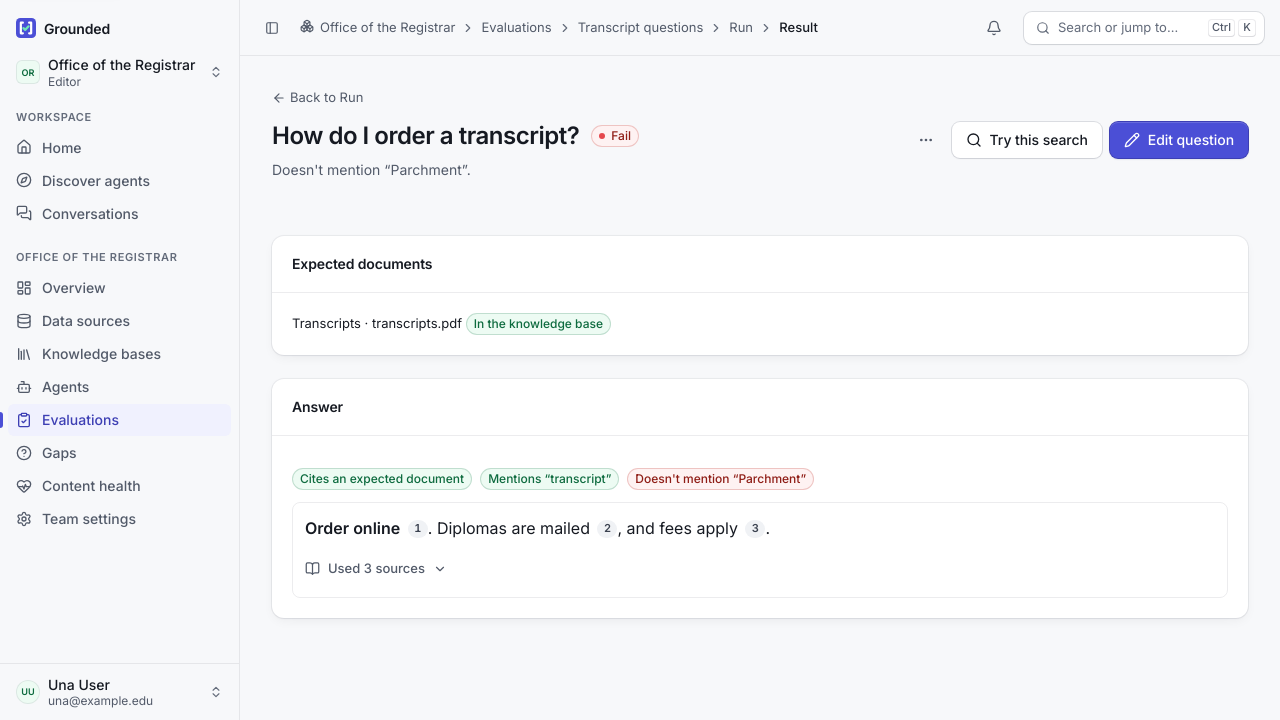
a set's runs › shows a full answer as chat does: Markdown, chips for its markers and one source per number, and why a question failed
This screenshot has width=1280, height=720.
Check: the text "Order online" is shown, box [305,518,400,538]
Check: the headings read "Expected documents", "Answer", in this order, box [292,254,432,272]; [292,398,343,414]
The sources start collapsed, as in chat.
Click the button "Used 3 sources" at (376, 569), box [297,553,455,585]
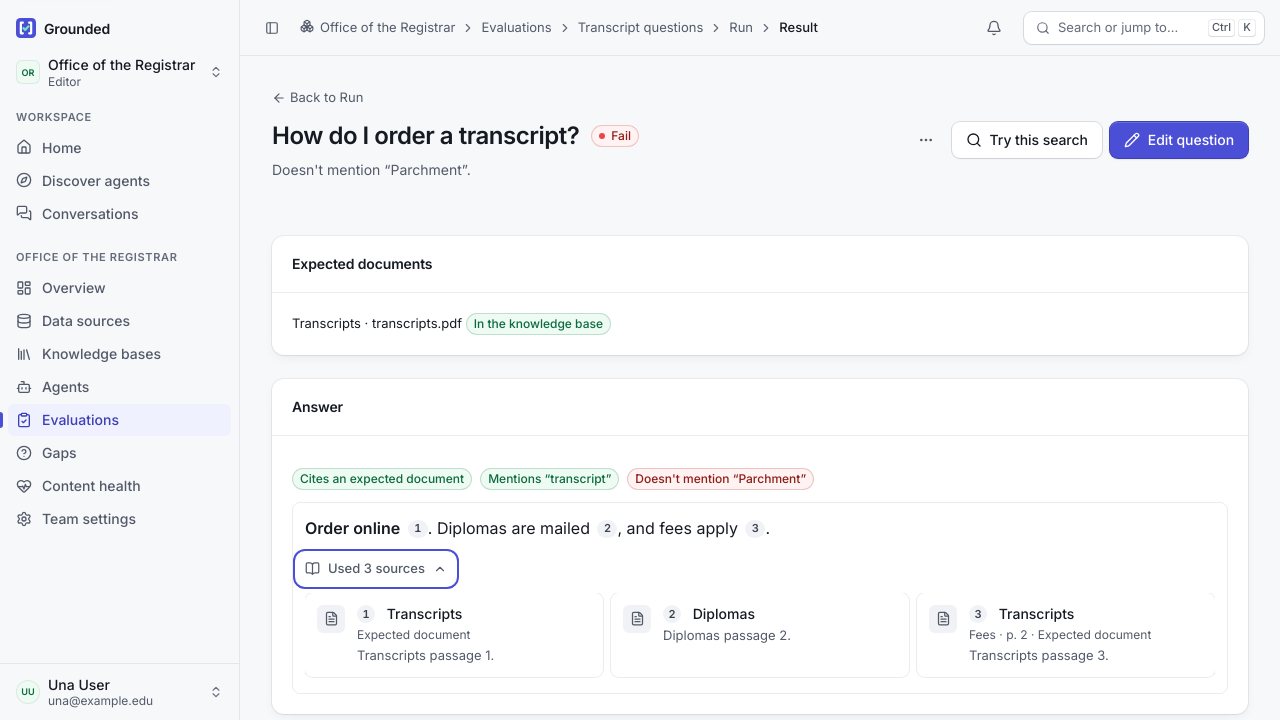
Check: the text "Doesn't mention “Parchment”" is shown, box [627,468,814,490]
Check: the text "Fees · p. 2 · Expected document" is shown, box [969,626,1151,644]
The run's table: no Rank for full answers, a Why column instead, and each cited document once.
Click the link "Back to Run" at (318, 98), box [272,88,363,108]
(page scrolled)
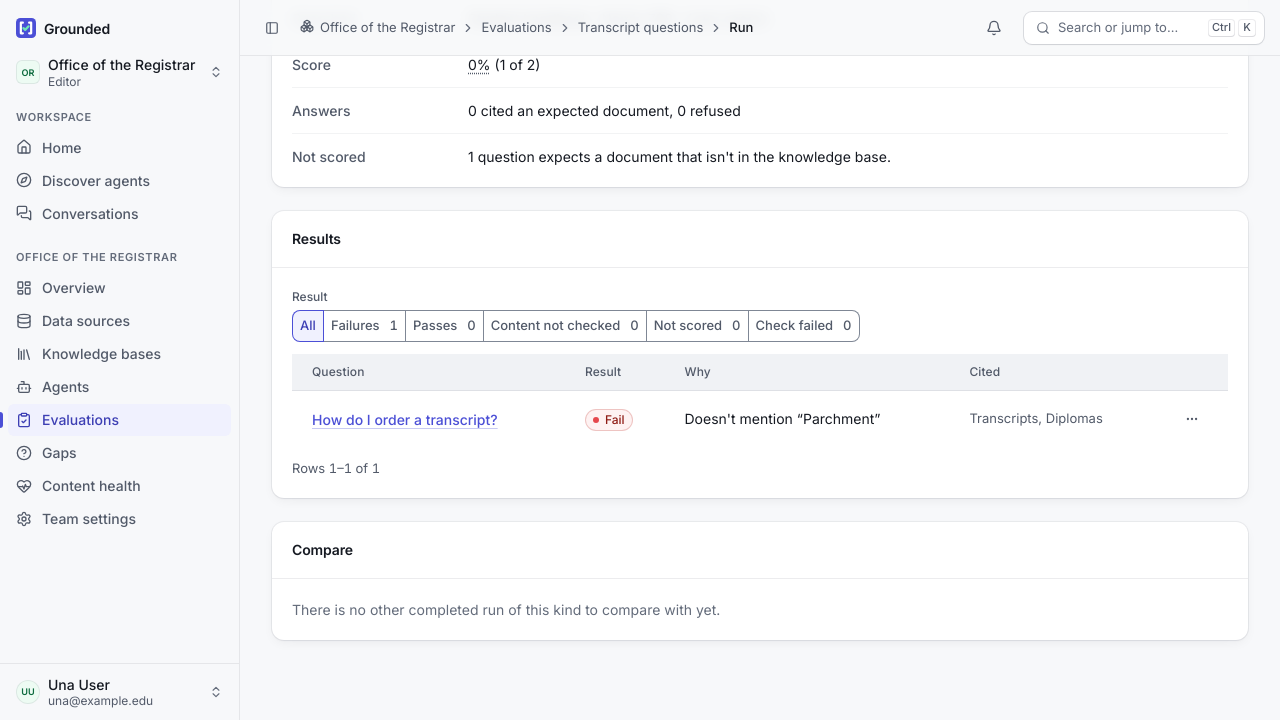
Check: the row "order a transcript" shows "Doesn't mention “Parchment”", box [684,410,880,427]
Check: the row "order a transcript" shows "Transcripts, Diplomas", box [969,410,1103,426]
